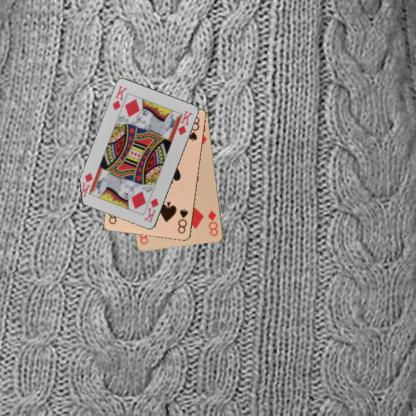8d: (205, 208, 220, 237)
8s: (175, 206, 190, 235)
Kd: (110, 83, 128, 112), (142, 196, 160, 223)
